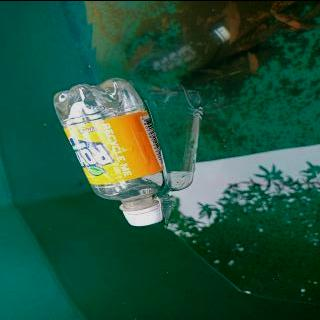bottle: (49, 75, 167, 226)
